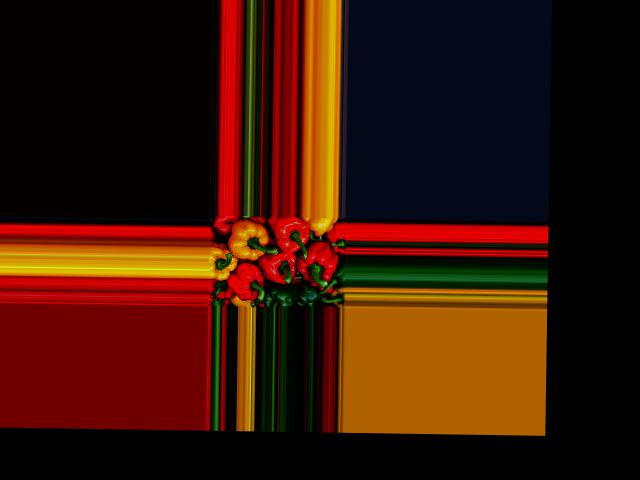bell_pepper: (309, 216, 333, 235)
